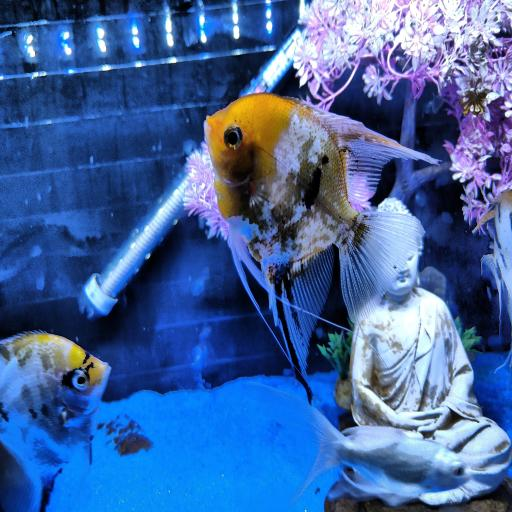Fish: (205, 94, 437, 375), (244, 382, 470, 506), (0, 333, 110, 511), (474, 190, 511, 321)
